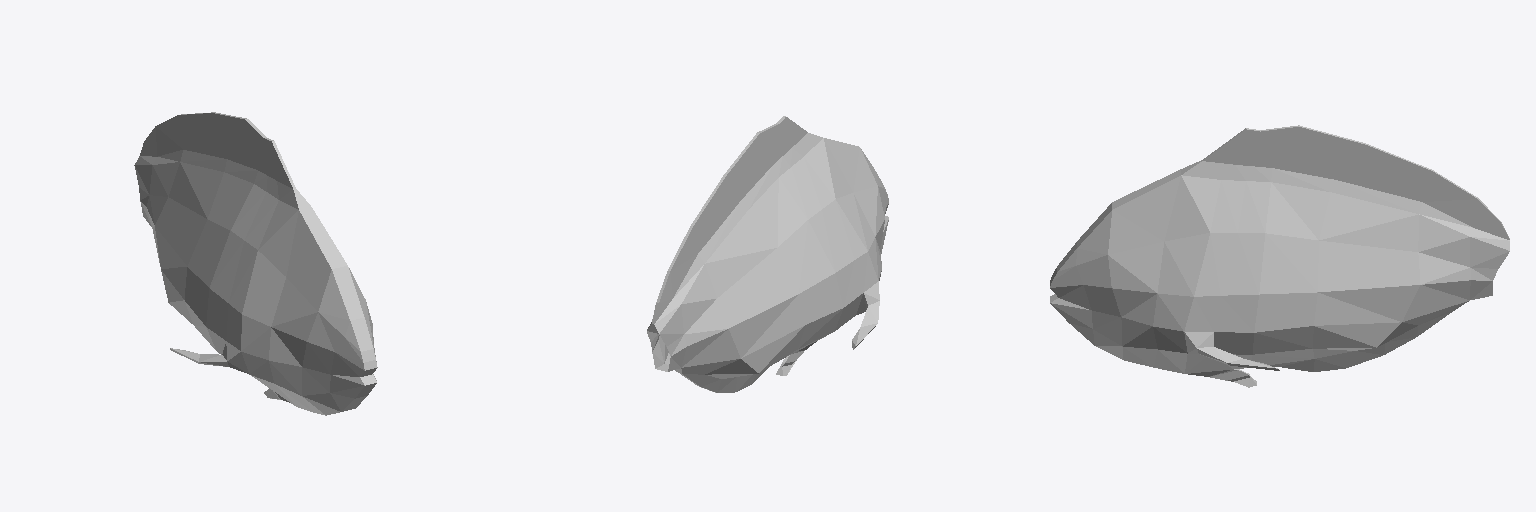
The model's file is cuerpoPez2.obj.
3 renders of one model, left to right at view 1: azimuth 30°, elevation 25°; view 2: azimuth 150°, elevation 25°; view 3: azimuth 270°, elevation 25°, orthographic.
Parts seen in each view (by area): view 1: cuerpoPez2:TropicalFish02; view 2: cuerpoPez2:TropicalFish02; view 3: cuerpoPez2:TropicalFish02.
Boxes of the visible parts, <box> form: cuerpoPez2:TropicalFish02: <box>134,112,377,415</box>; cuerpoPez2:TropicalFish02: <box>647,116,888,392</box>; cuerpoPez2:TropicalFish02: <box>1050,125,1509,387</box>.
Size of the model in its own units: 0.8728 by 1.25 by 2.